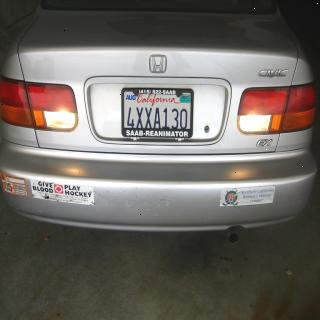license: (123, 89, 195, 140)
